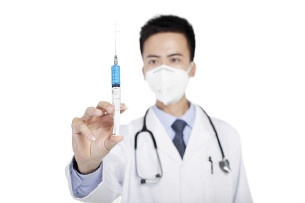Mask: (142, 51, 193, 103)
